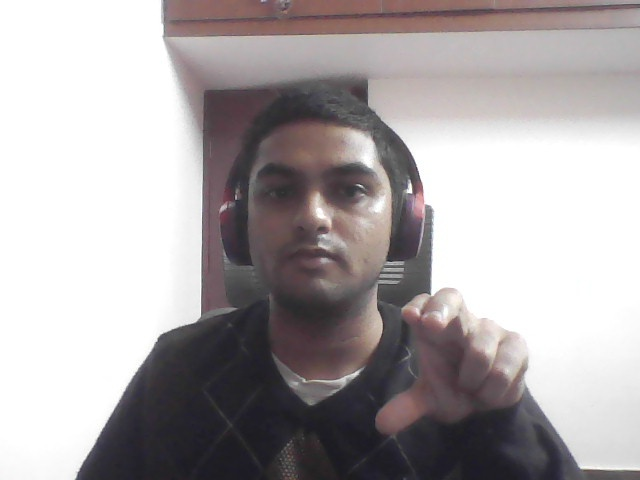NO: (347, 271, 548, 442)
